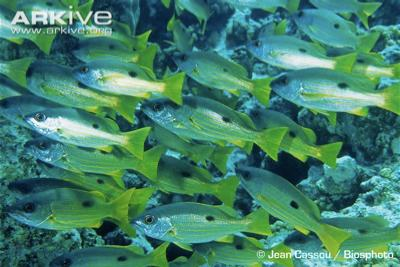Lutjanidae -Snappers-: (230, 159, 355, 261), (138, 90, 289, 159), (21, 103, 154, 167), (66, 56, 189, 112), (132, 195, 277, 242), (4, 187, 141, 229), (245, 38, 354, 79)
